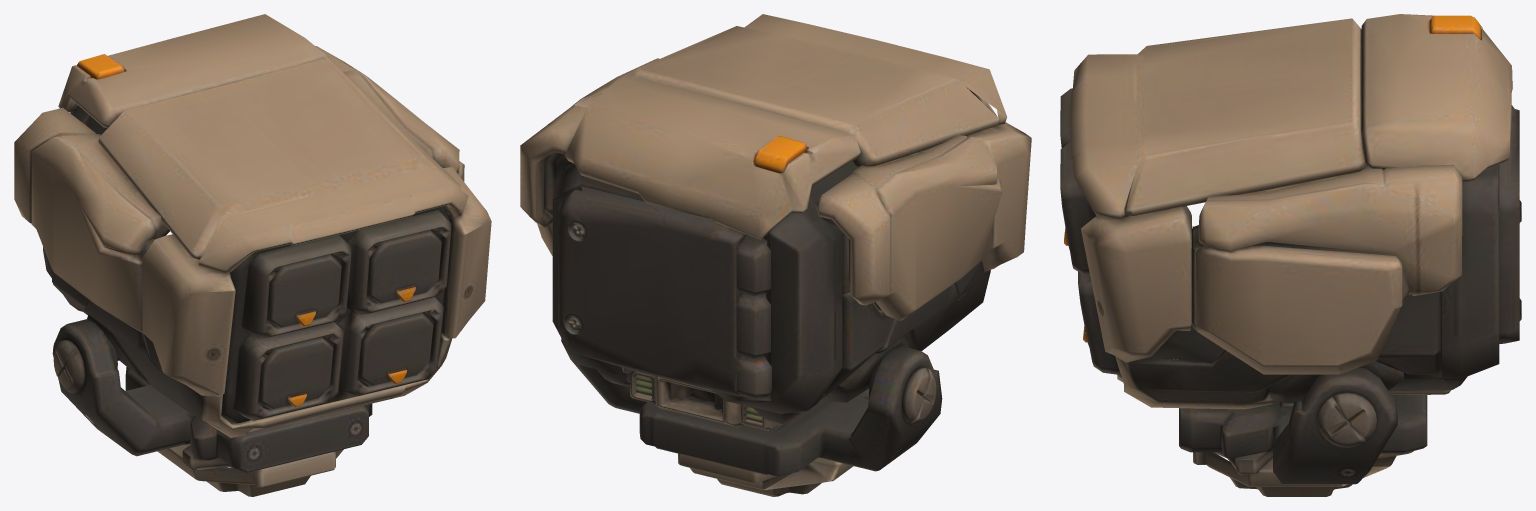
The model's file is 14_WPN_4Cell_Pod.glb.
3 renders of one model, left to right at view 1: azimuth 30°, elevation 25°; view 2: azimuth 150°, elevation 25°; view 3: azimuth 270°, elevation 25°, orthographic. The views are drawn at different scales.
Parts seen in each view (by area): view 1: 14_WPN_4Cell_Pod; view 2: 14_WPN_4Cell_Pod; view 3: 14_WPN_4Cell_Pod.
Part boxes in pixels (<box>): 14_WPN_4Cell_Pod: <box>14,14,491,496</box>; 14_WPN_4Cell_Pod: <box>520,14,1031,496</box>; 14_WPN_4Cell_Pod: <box>1060,14,1521,496</box>.
Size of the model in its own units: 0.9995 by 0.979 by 0.9956.
1 material, 1 textured.
